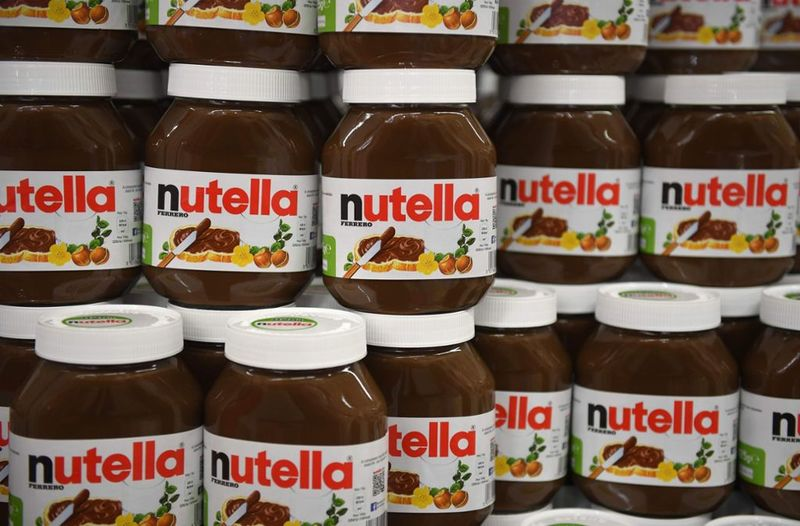nutella: (143, 64, 321, 309), (322, 68, 497, 316), (9, 303, 203, 526), (204, 307, 390, 526), (572, 282, 738, 519), (637, 74, 800, 288), (1, 61, 142, 308), (351, 309, 495, 526), (496, 74, 642, 286), (476, 284, 571, 514)
